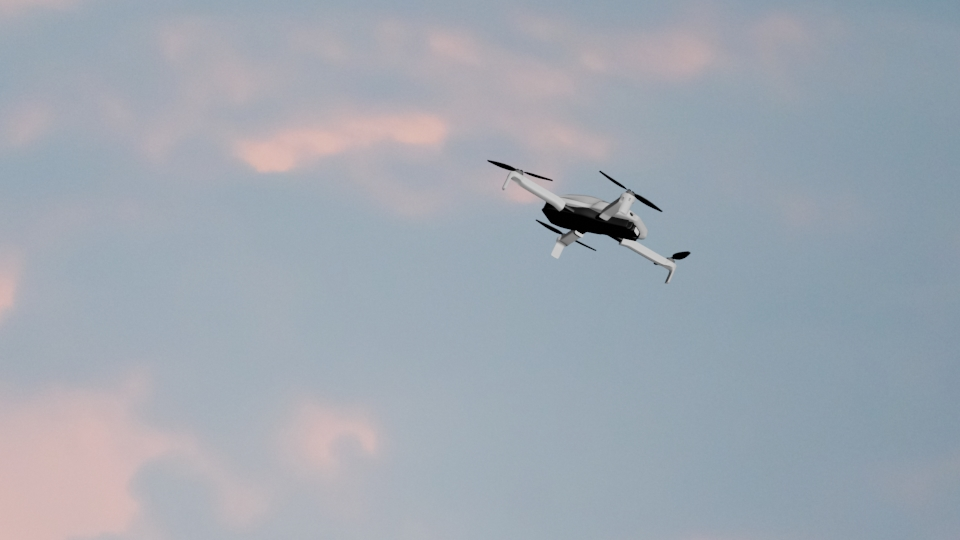drone: (489, 156, 693, 282)
